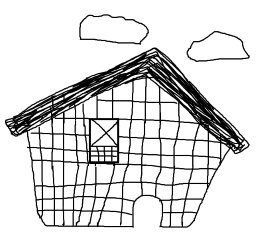closed_window: (84, 114, 125, 167)
clouds: (79, 13, 149, 46), (185, 28, 252, 62)
door: (126, 189, 168, 232)
shaded_roof: (4, 46, 250, 153)
wall: (27, 92, 230, 233)
